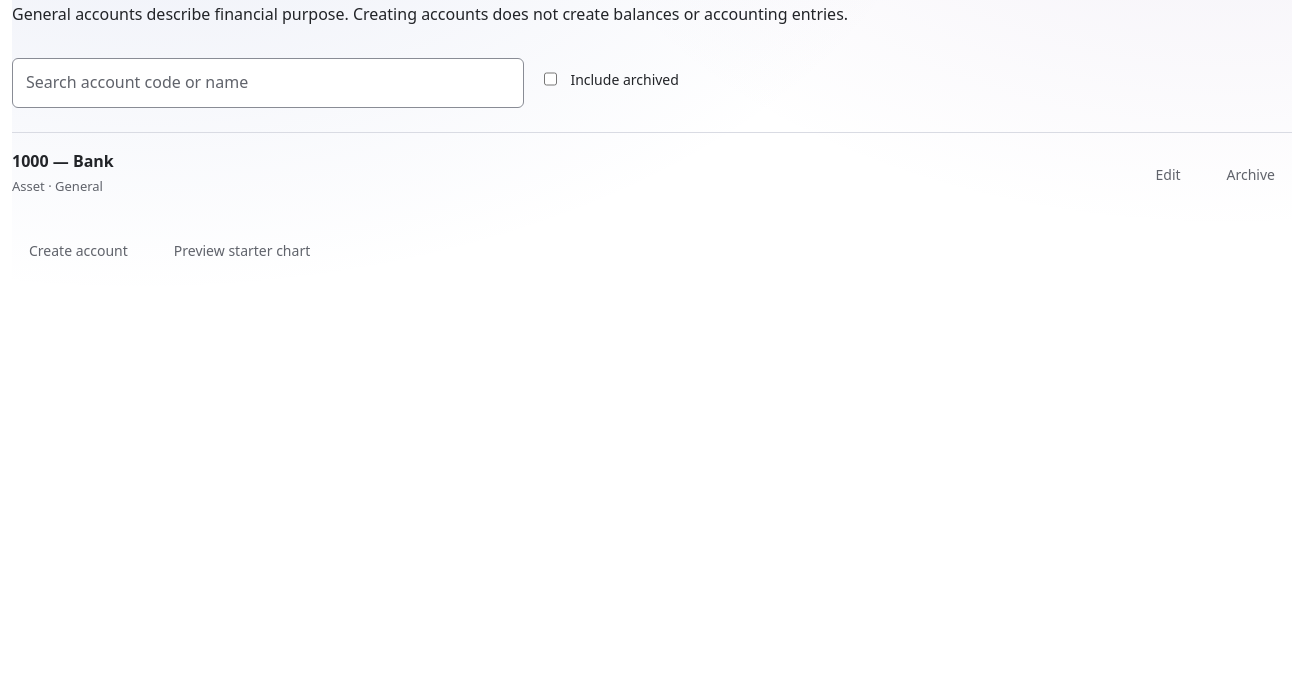
shows current saved account fields beside the retained draft after a conflict
The width and height of the screenshot is (1304, 694).
Click the button "Edit" at [1168, 174], box [1138,152,1198,196]
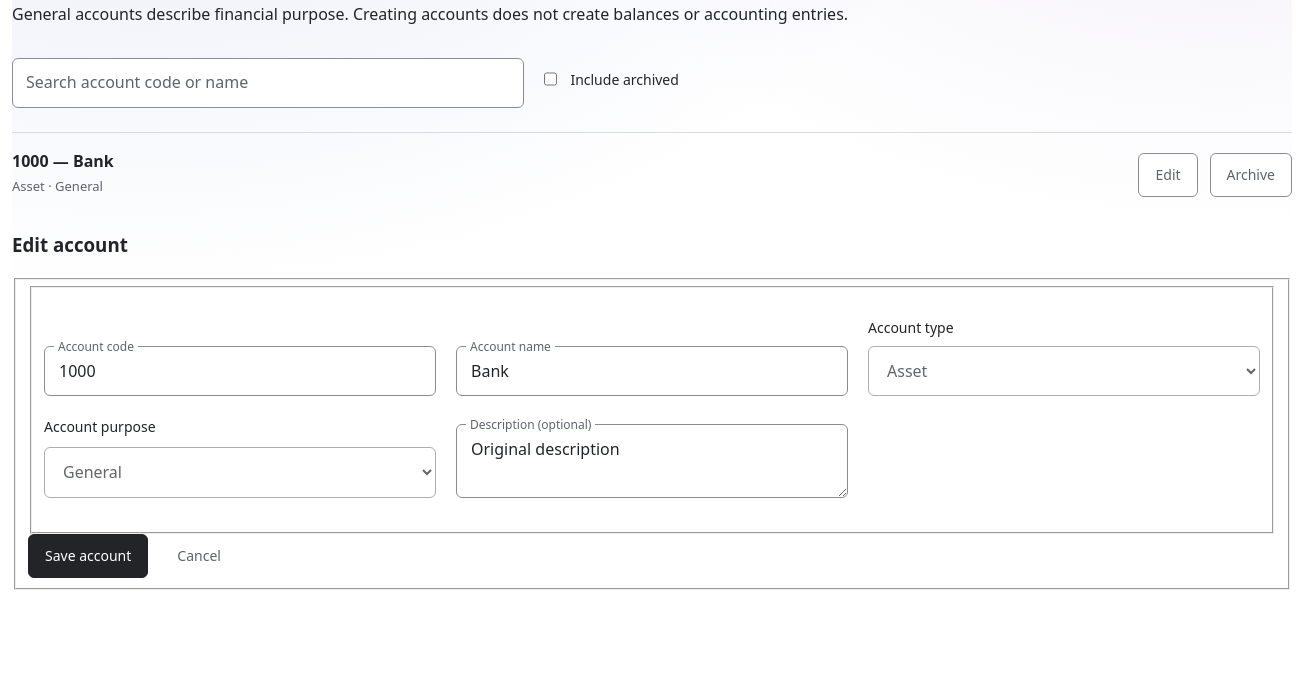
Replace the text in the text box labelled "Description (optional)" with "My retained description" at [652, 461], box [456,424,848,498]
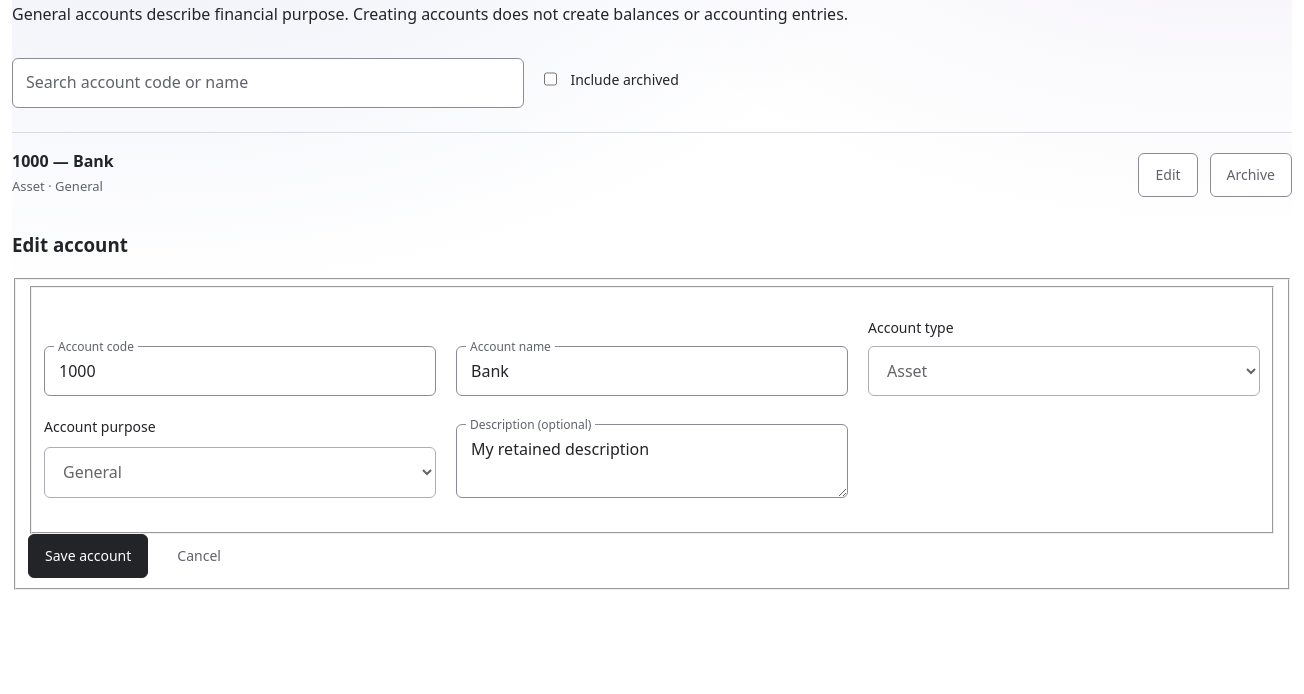
Click the button "Save account" at [88, 556], box [28,534,148,578]
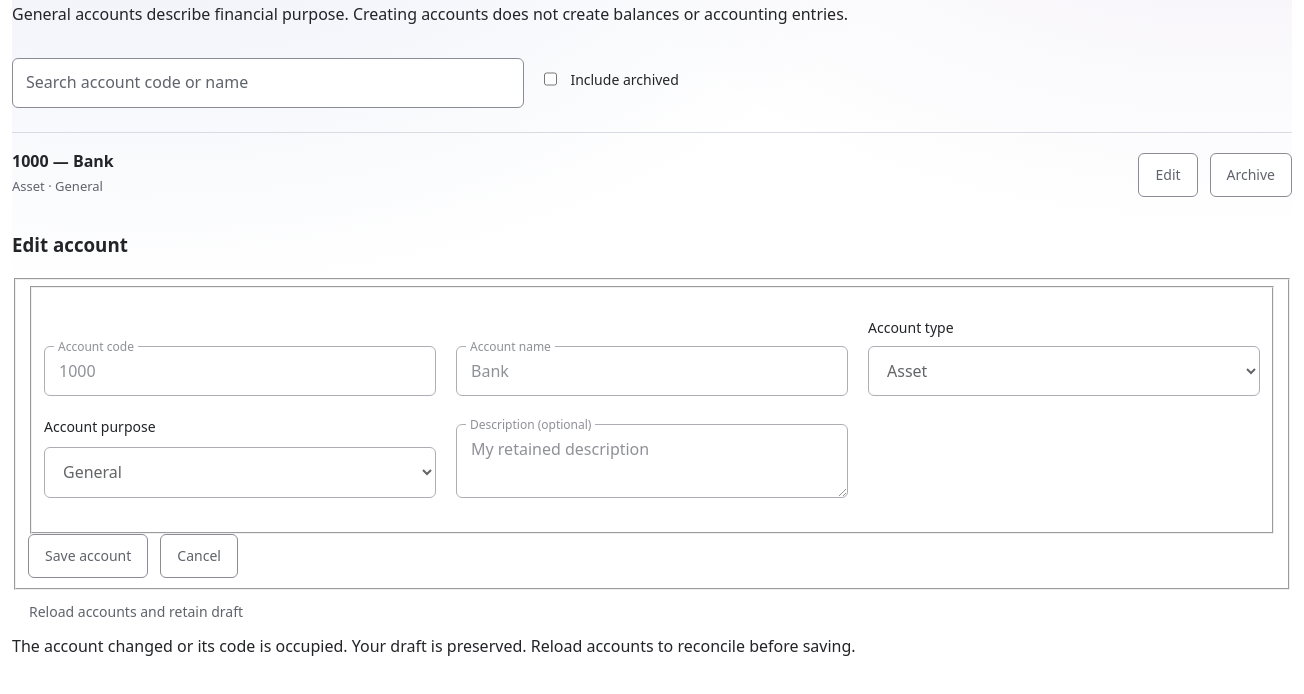
Click the button "Reload accounts and retain draft" at [136, 612], box [12,590,260,634]
(page scrolled)
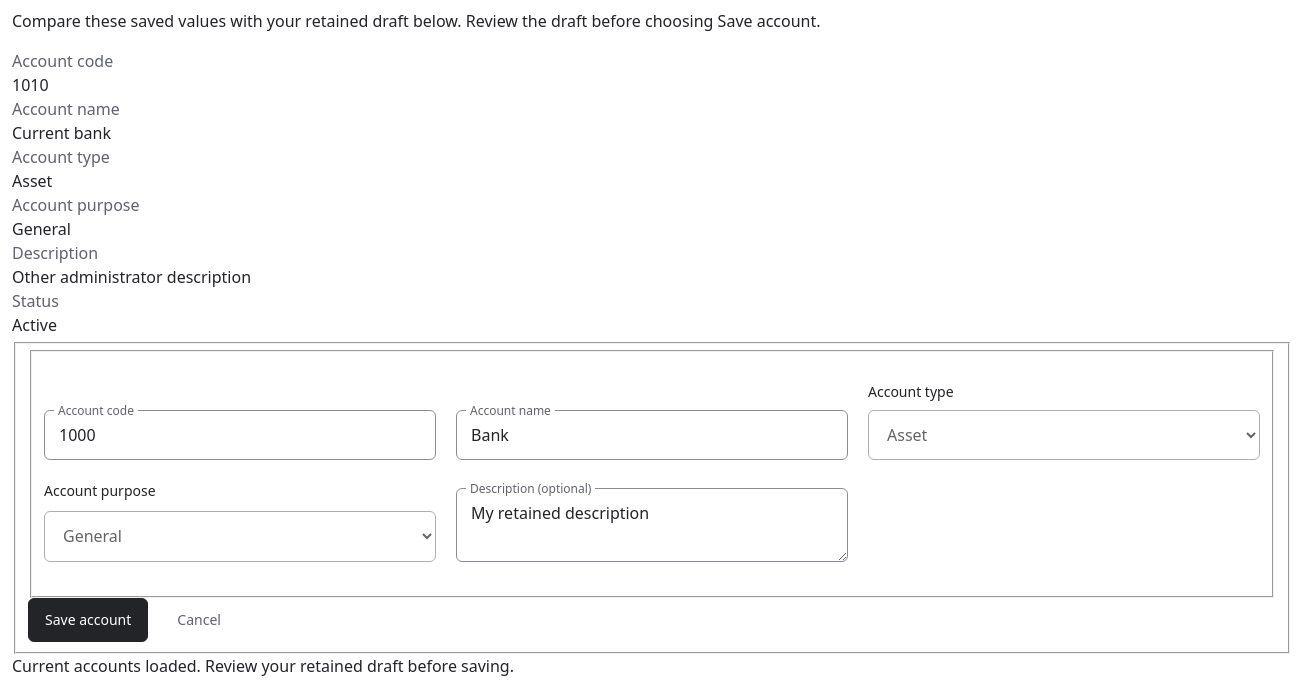
Expected: the text "1010" is shown, [12,74,49,96]
Expected: the text "Current bank" is shown, [12,122,111,144]
Expected: the text "Other administrator description" is shown, [12,266,251,288]
// WHEN explicitly saving the reviewed draft THEN it uses the refreshed version and retained fields
Click the button "Save account" at [88, 620], box [28,598,148,642]
(page scrolled)
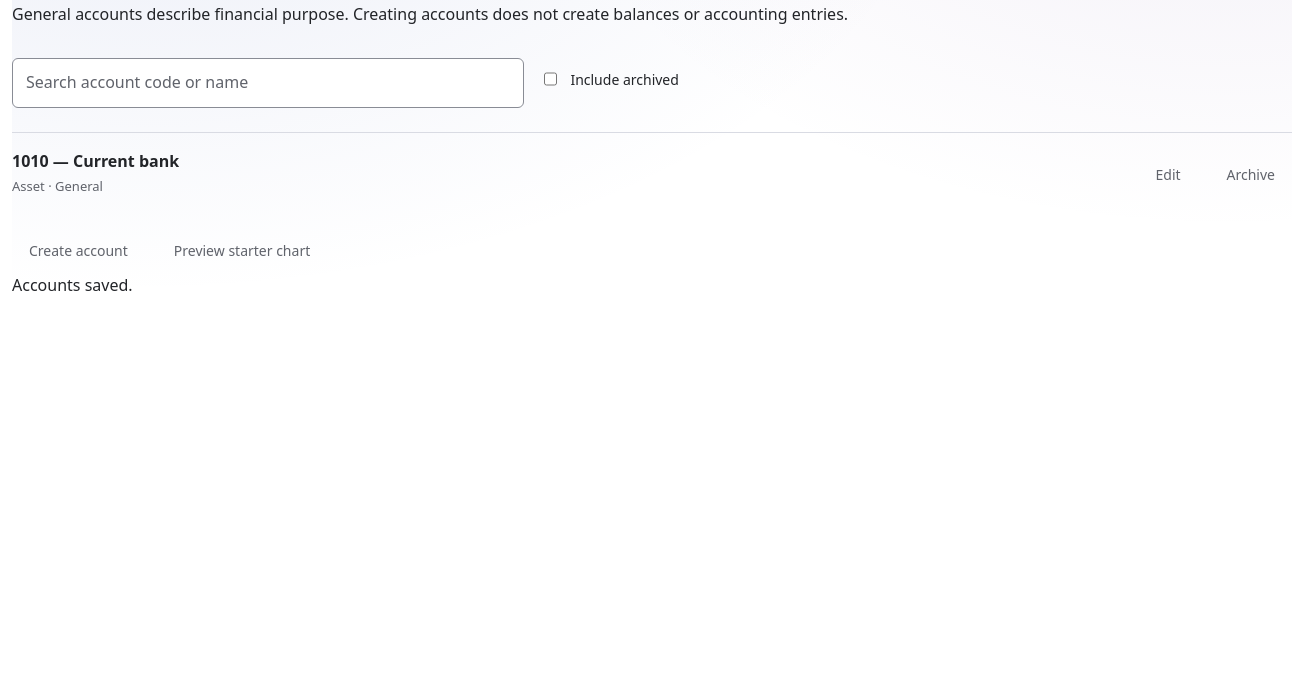
Expected: the text "Accounts saved." is shown, [12,274,133,296]
